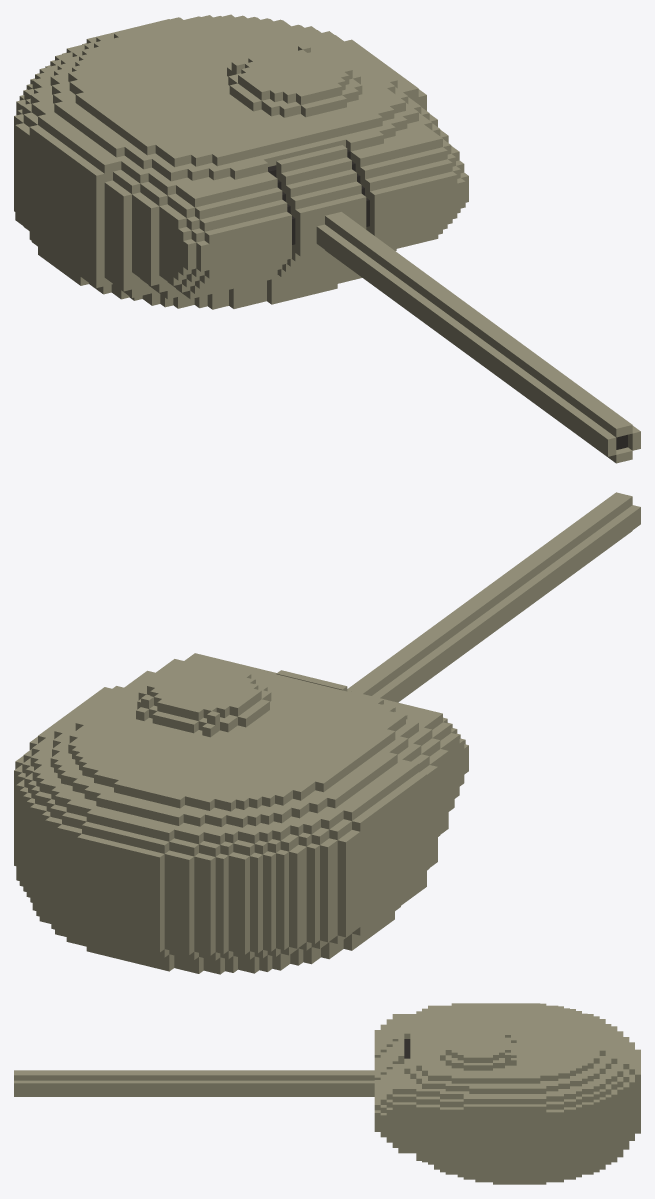
The model's file is Boss-2.obj.
The picture shows the model from 3 angles, top to bottom: view 1: azimuth 30°, elevation 25°; view 2: azimuth 150°, elevation 25°; view 3: azimuth 270°, elevation 25°; orthographic projection. The views are drawn at different scales.
Bounding box in the file's own units: 4 × 2 × 10.6.
1 material, 1 textured.
